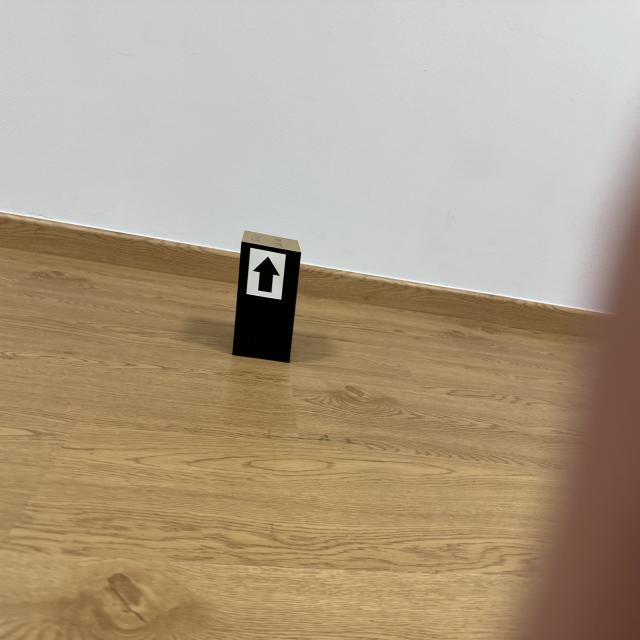UP: (253, 256, 280, 293)
